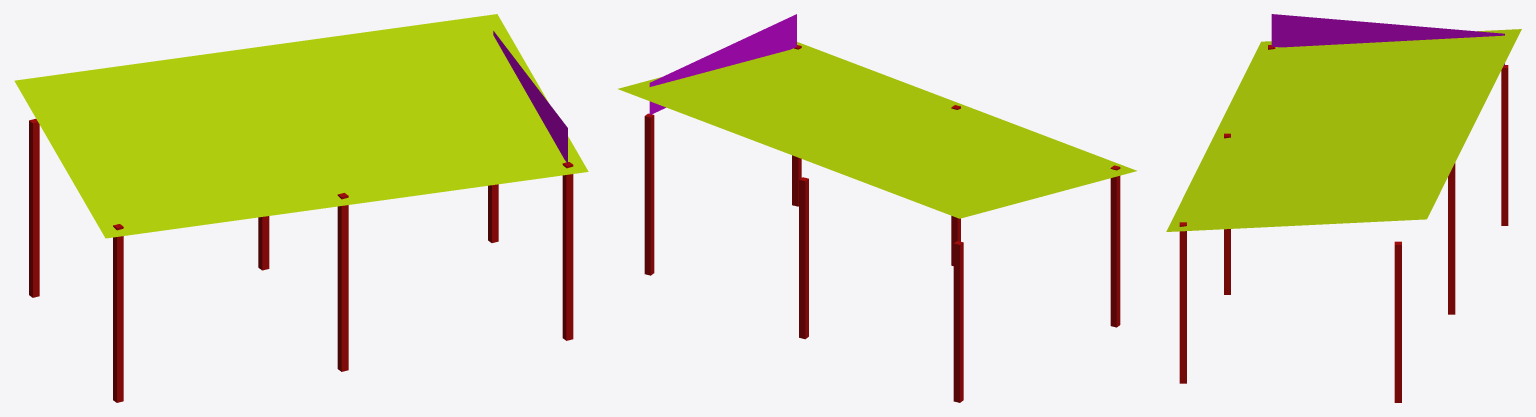
The picture shows the model from 3 angles, left to right: view 1: azimuth 30°, elevation 25°; view 2: azimuth 150°, elevation 25°; view 3: azimuth 270°, elevation 25°; orthographic projection. The views are drawn at different scales.
Parts seen in each view (by area): view 1: sc_139; view 2: sc_139; view 3: sc_139.
Boxes of the visible parts, box(x1,y1,x2,y2) form: sc_139: box(14, 14, 588, 402); sc_139: box(618, 14, 1136, 402); sc_139: box(1166, 14, 1521, 402).
Size of the model in its own units: 14.03 by 5.84 by 9.87.
